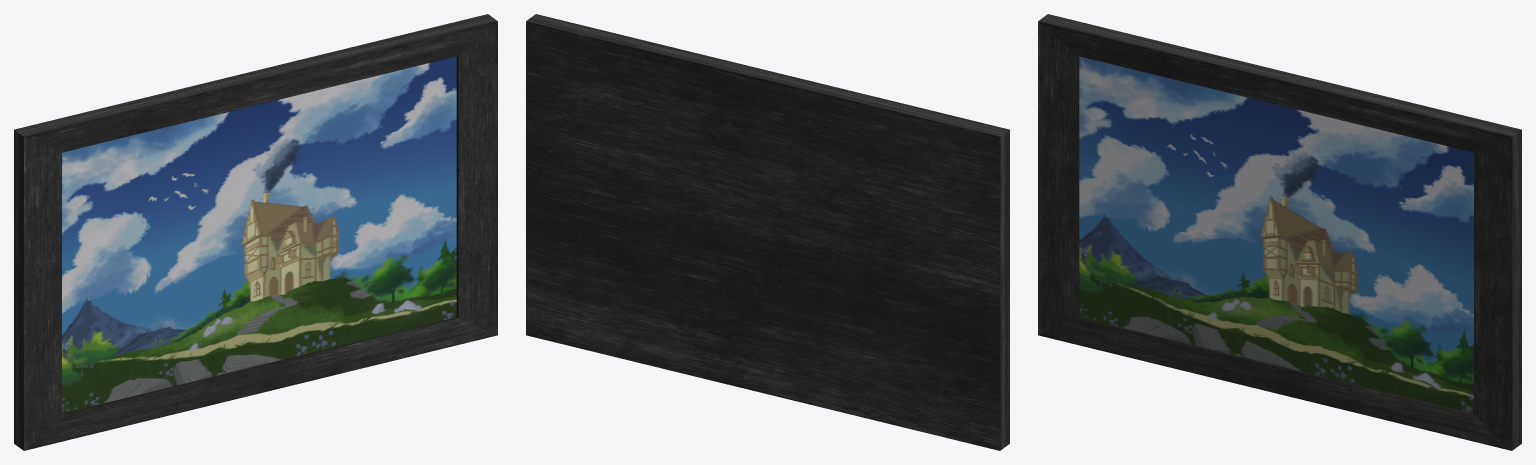
File: painting_landscape_3.fbx
3 views of the same model, side by side, from view 1: azimuth 30°, elevation 25°; view 2: azimuth 150°, elevation 25°; view 3: azimuth 330°, elevation 25° (orthographic).
Visible parts, largest first — view 1: painting_Var7; view 2: painting_Var7; view 3: painting_Var7.
Part boxes in pixels (box(x1,y1,x2,y2)): painting_Var7: box(14, 14, 497, 450); painting_Var7: box(526, 14, 1009, 450); painting_Var7: box(1038, 14, 1521, 450).
Bounding box in the file's own units: 113 × 71.52 × 4.11.
1 material, 1 textured.
